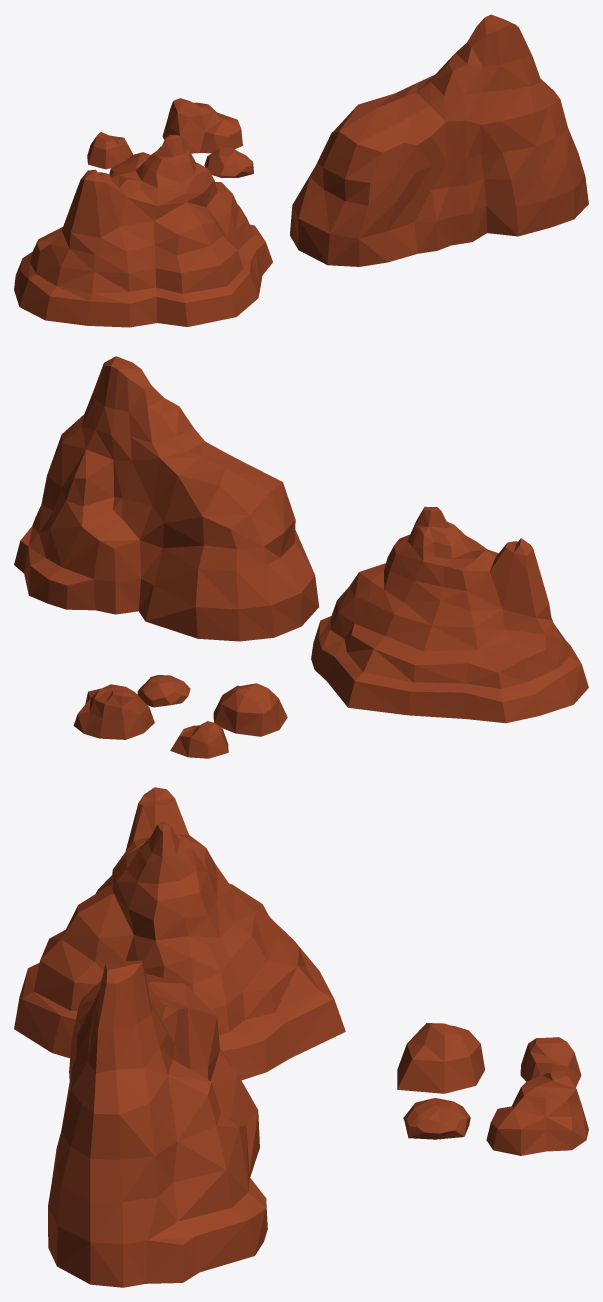
File: Stone_Pack.fbx
3 views of the same model, one above another, from view 1: azimuth 30°, elevation 25°; view 2: azimuth 150°, elevation 25°; view 3: azimuth 270°, elevation 25° (orthographic). The views are drawn at different scales.
Visible parts, largest first — view 1: pCube10, pCube9, pCube5, pCube3, pCube2, pCube1; view 2: pCube10, pCube9, pCube5, pCube1, pCube3, pCube2; view 3: pCube10, pCube9, pCube5, pCube1, pCube2, pCube3.
Boxes of the visible parts, x1,y1,x2,y2 form: pCube10: (290, 14, 588, 266); pCube9: (14, 134, 272, 327); pCube5: (162, 98, 242, 153); pCube3: (87, 132, 132, 169); pCube2: (204, 147, 253, 177); pCube1: (109, 152, 150, 175); pCube10: (14, 356, 319, 641); pCube9: (311, 506, 588, 723); pCube5: (73, 684, 154, 739); pCube1: (213, 683, 287, 736); pCube3: (170, 721, 228, 758); pCube2: (137, 675, 190, 707); pCube10: (48, 960, 267, 1287); pCube9: (14, 787, 345, 1080); pCube5: (486, 1070, 588, 1155); pCube1: (397, 1023, 484, 1093); pCube2: (403, 1098, 470, 1139); pCube3: (520, 1037, 581, 1087).
Size of the model in its own units: 16.8 by 5.85 by 11.29.
